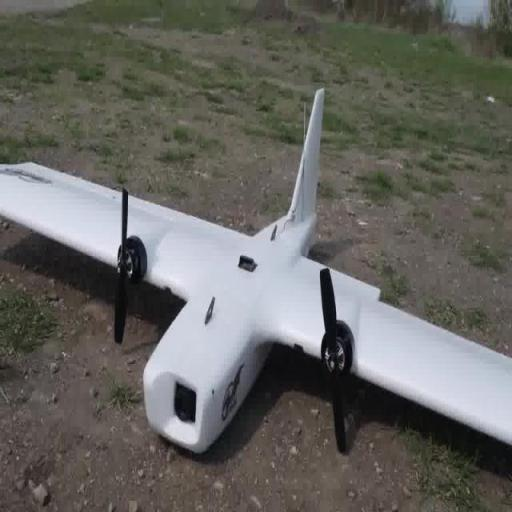uav: (2, 86, 512, 460)
